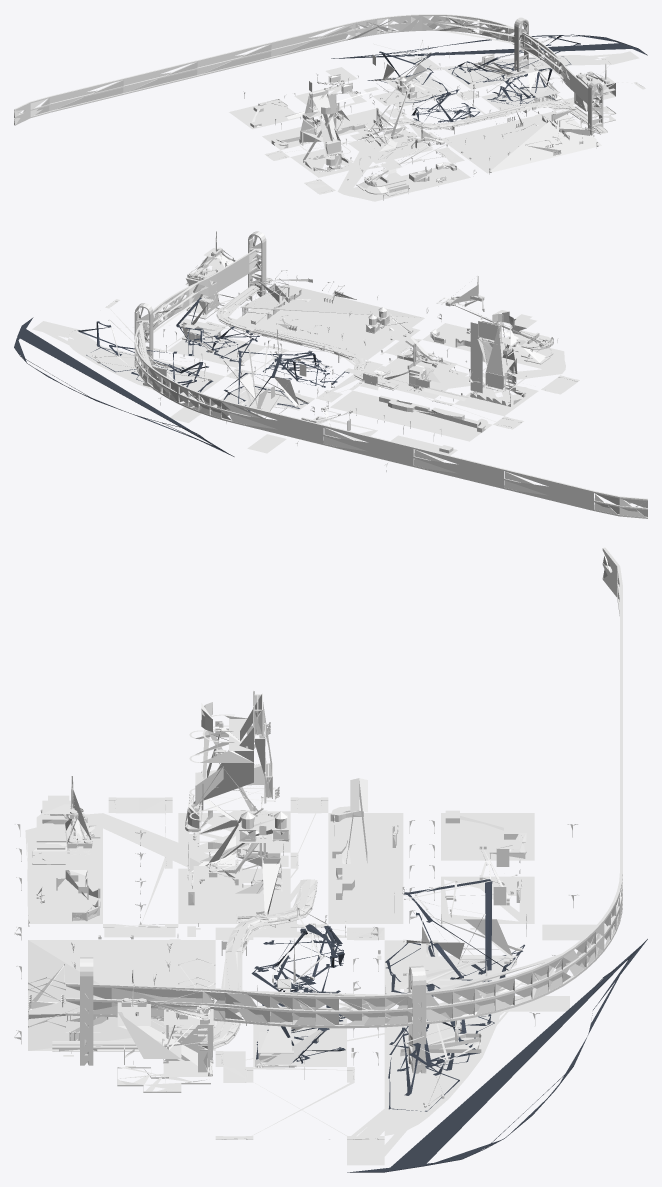
Rendered from street_island2_08.glb.
3 views of the same model, one above another, from view 1: azimuth 30°, elevation 25°; view 2: azimuth 150°, elevation 25°; view 3: azimuth 270°, elevation 25° (orthographic). The views are drawn at different scales.
Parts seen in each view (by area): view 1: seg_952, seg_381, seg_958, seg_415, seg_972, seg_418, seg_1016, seg_423, seg_421, seg_369, seg_417, seg_24 (+26 smaller); view 2: seg_952, seg_381, seg_958, seg_415, seg_423, seg_418, seg_972, seg_1016, seg_24, seg_417, seg_369, seg_431 (+25 smaller); view 3: seg_958, seg_381, seg_415, seg_423, seg_418, seg_1016, seg_972, seg_571, seg_421, seg_369, seg_24, seg_952 (+23 smaller).
Boxes of the visible parts, <box> form: seg_952: <box>14,15,403,125</box>; seg_381: <box>441,109,601,173</box>; seg_958: <box>399,14,600,114</box>; seg_415: <box>337,129,470,201</box>; seg_972: <box>300,89,350,170</box>; seg_418: <box>442,55,599,89</box>; seg_1016: <box>331,34,647,58</box>; seg_423: <box>262,108,391,149</box>; seg_421: <box>229,102,300,129</box>; seg_369: <box>382,72,453,107</box>; seg_417: <box>481,83,561,110</box>; seg_24: <box>303,94,348,170</box>; seg_952: <box>169,380,647,518</box>; seg_381: <box>228,282,424,360</box>; seg_958: <box>134,248,261,401</box>; seg_415: <box>377,323,565,398</box>; seg_423: <box>330,390,492,441</box>; seg_418: <box>67,338,225,401</box>; seg_972: <box>466,317,528,405</box>; seg_1016: <box>14,317,234,456</box>; seg_24: <box>470,310,525,406</box>; seg_417: <box>167,335,265,367</box>; seg_369: <box>213,383,314,416</box>; seg_431: <box>455,384,538,416</box>; seg_958: <box>65,919,603,1028</box>; seg_381: <box>28,940,215,1050</box>; seg_415: <box>25,813,290,923</box>; seg_423: <box>328,813,403,923</box>; seg_418: <box>384,1011,500,1135</box>; seg_1016: <box>347,939,647,1172</box>; seg_972: <box>189,690,279,842</box>; seg_571: <box>117,1002,213,1076</box>; seg_421: <box>441,813,534,860</box>; seg_369: <box>384,940,517,994</box>; seg_24: <box>185,702,253,848</box>; seg_952: <box>596,547,622,960</box>.
Size of the model in its own units: 694 by 90.52 by 338.
